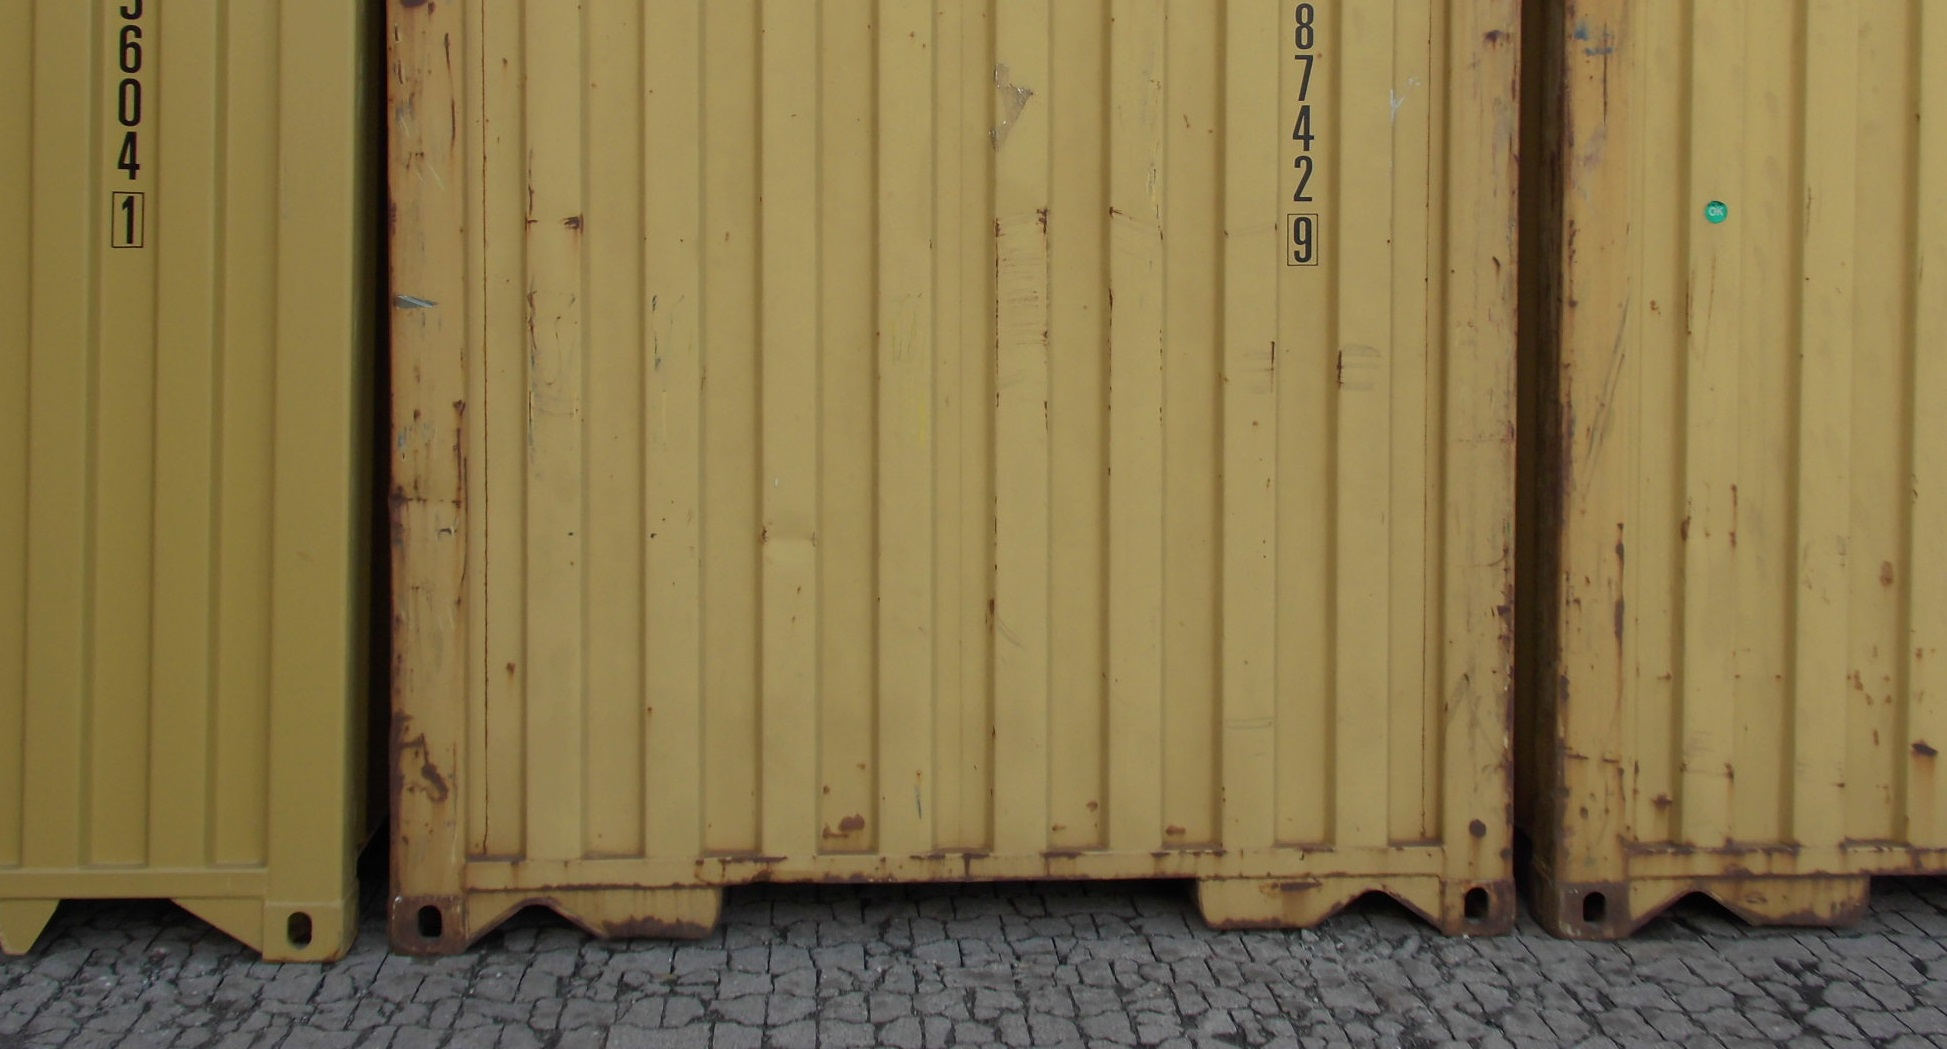container_no_door: (390, 1, 1527, 944), (1561, 1, 1947, 938), (6, 1, 342, 970)
